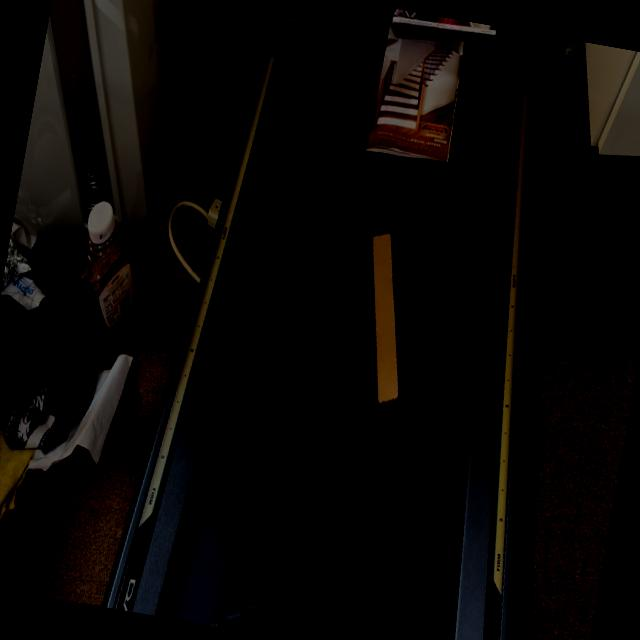Recycle: (332, 219, 434, 415)
Trash: (352, 12, 503, 196)
